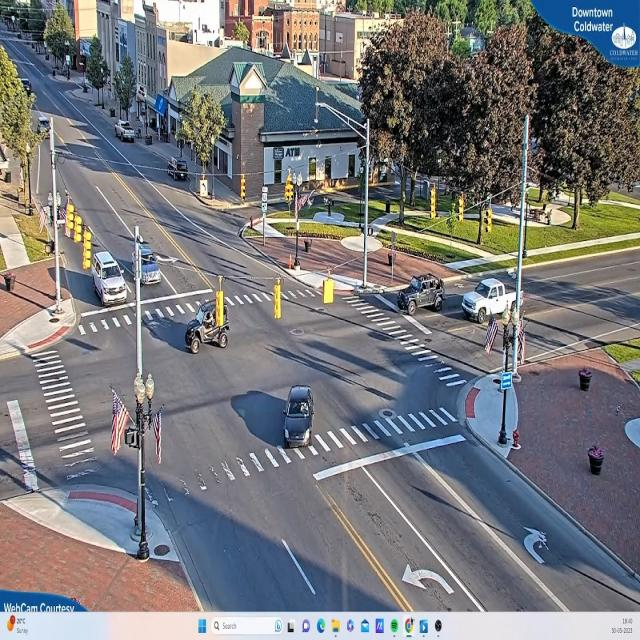car: (177, 301, 237, 359), (463, 275, 526, 323), (281, 382, 316, 450), (92, 254, 129, 307), (127, 244, 163, 288), (402, 276, 445, 312)
